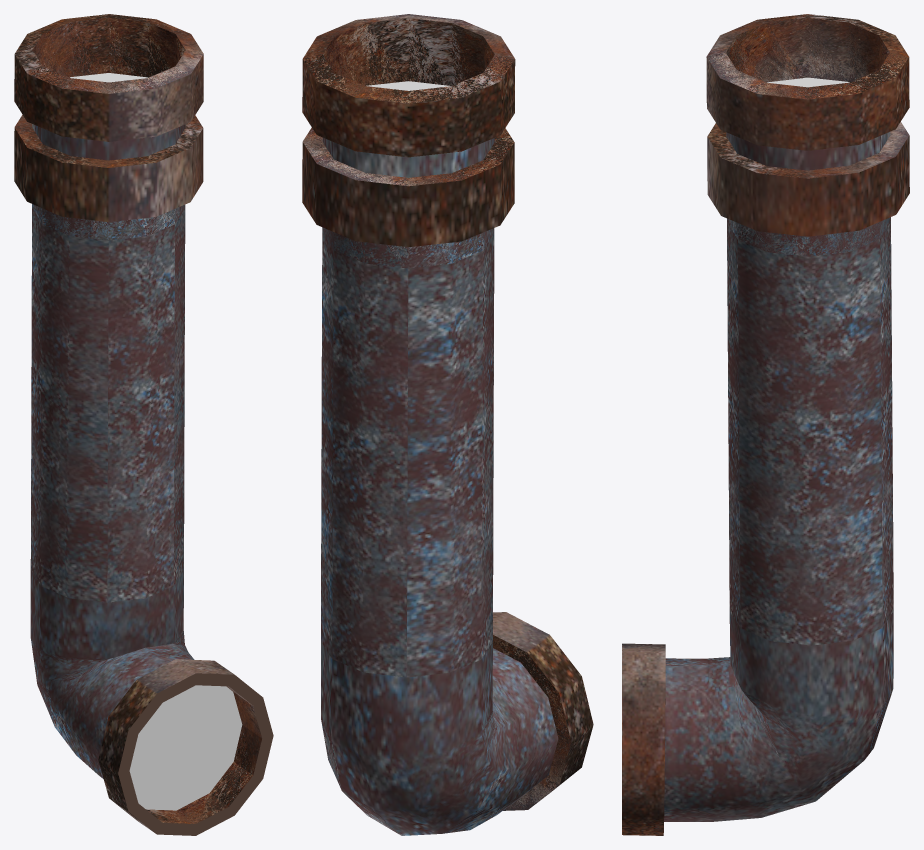
Rendered from TPM 1_FBX.fbx.
The picture shows the model from 3 angles, left to right: view 1: azimuth 30°, elevation 25°; view 2: azimuth 150°, elevation 25°; view 3: azimuth 270°, elevation 25°; orthographic projection. The views are drawn at different scales.
Parts seen in each view (by area): view 1: Tubería móvil 1; view 2: Tubería móvil 1; view 3: Tubería móvil 1.
Part boxes in pixels (x1=…): Tubería móvil 1: x1=14, y1=14, x2=273, y2=835; Tubería móvil 1: x1=302, y1=14, x2=593, y2=835; Tubería móvil 1: x1=622, y1=14, x2=909, y2=835.
Bounding box in the file's own units: 247 × 1042 × 351.
